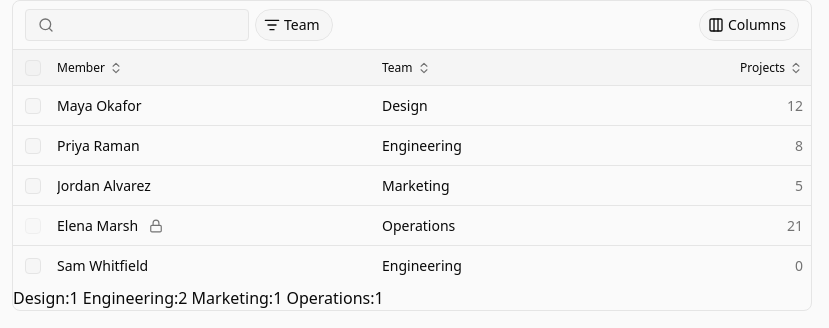
Test: DataTable on useDataTable › counts each value under the other filters
Check: the text named "Team counts" reads "Design:1 Engineering:2 Marketing:1 Operations:1", box x1=13 y1=287 x2=384 y2=309
Type "priya" into the search field named "Search members" at (151, 25), box x1=54 y1=10 x2=248 y2=40
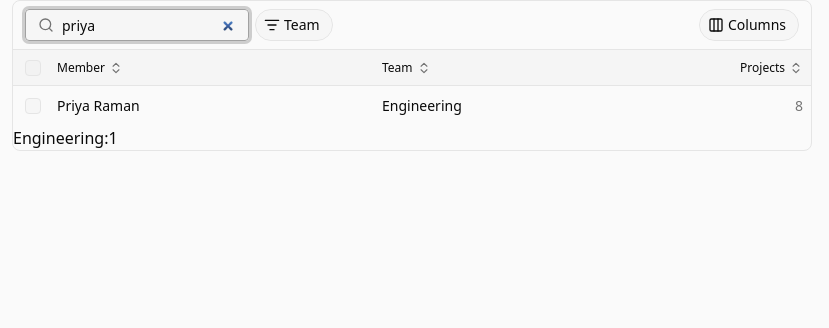
Check: the text named "Team counts" reads "Engineering:1", box x1=13 y1=127 x2=118 y2=149
